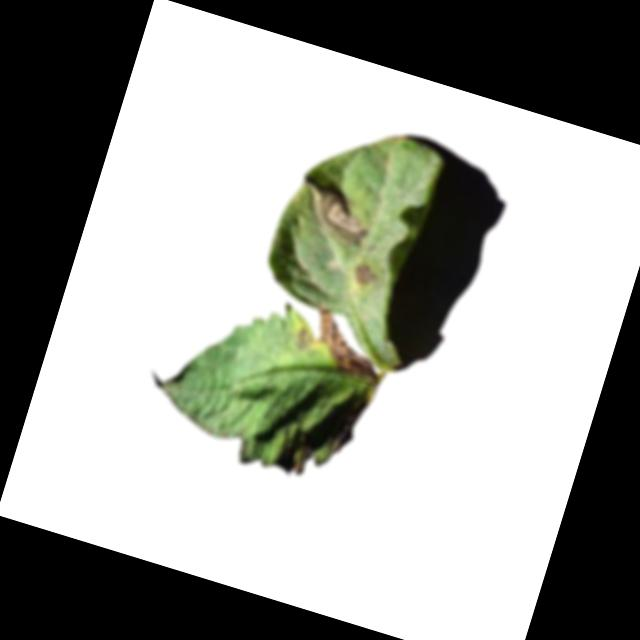Early_blight: (301, 298, 390, 383), (299, 181, 379, 250), (350, 259, 382, 290), (289, 441, 313, 477)
